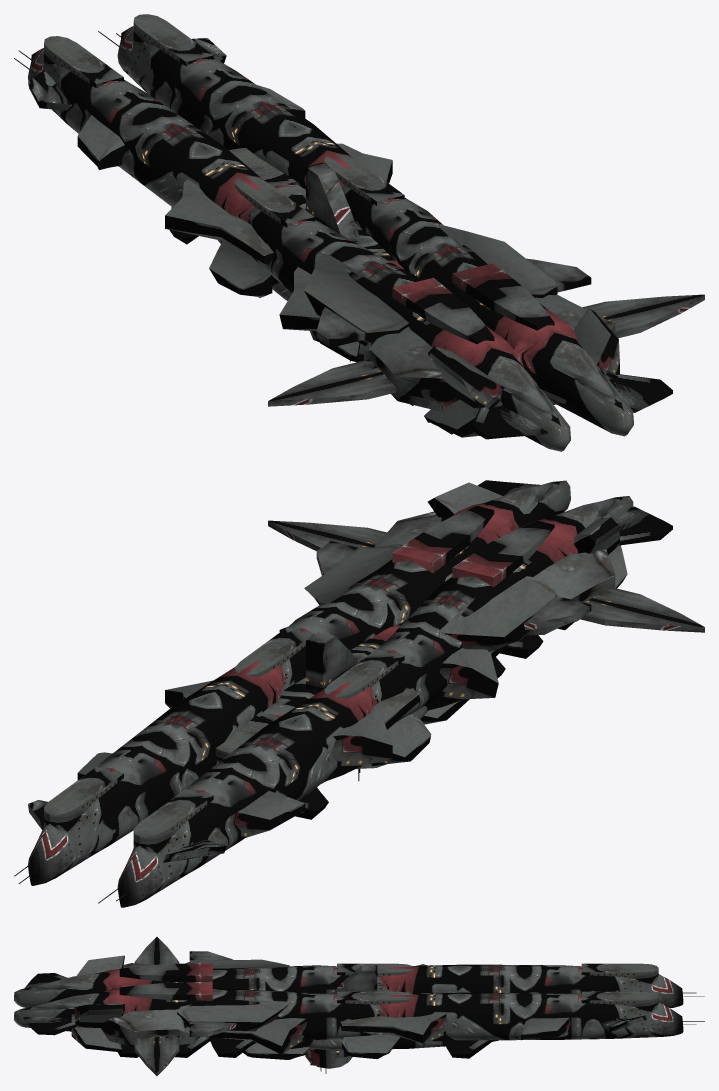
File: TypeXVI.fbx
The picture shows the model from 3 angles, top to bottom: view 1: azimuth 30°, elevation 25°; view 2: azimuth 150°, elevation 25°; view 3: azimuth 270°, elevation 25°; orthographic projection. The views are drawn at different scales.
Visible parts, largest first — view 1: 00_Core, 09_MidLeft, 01_ProngLeft, 16_TailRight, 15_TailLeft, 02_ProngRight, 13_RearLeft, 05_FinLeft, 07_HullLeft, 10_MidRight, 03_FrontLeft, 14_RearRight (+5 smaller); view 2: 01_ProngLeft, 00_Core, 02_ProngRight, 09_MidLeft, 13_RearLeft, 07_HullLeft, 05_FinLeft, 03_FrontLeft, 10_MidRight, 15_TailLeft, 14_RearRight, 16_TailRight (+4 smaller); view 3: 10_MidRight, 02_ProngRight, 00_Core, 14_RearRight, 01_ProngLeft, 08_HullRight, 06_FinRight, 16_TailRight, 04_FrontRight, 15_TailLeft, 13_RearLeft, 09_MidLeft (+4 smaller).
Part boxes in pixels (<box>): 00_Core: <box>186,96,555,404</box>; 09_MidLeft: <box>279,230,413,405</box>; 01_ProngLeft: <box>14,36,198,198</box>; 16_TailRight: <box>514,308,672,436</box>; 15_TailLeft: <box>424,340,570,451</box>; 02_ProngRight: <box>98,14,305,148</box>; 13_RearLeft: <box>364,278,505,434</box>; 05_FinLeft: <box>165,159,284,297</box>; 07_HullLeft: <box>174,144,350,300</box>; 10_MidRight: <box>386,208,591,298</box>; 03_FrontLeft: <box>98,93,264,244</box>; 14_RearRight: <box>452,263,615,336</box>; 01_ProngLeft: <box>98,725,320,907</box>; 00_Core: <box>155,523,510,804</box>; 02_ProngRight: <box>14,703,223,885</box>; 09_MidLeft: <box>386,576,591,724</box>; 13_RearLeft: <box>452,520,615,635</box>; 07_HullLeft: <box>289,639,437,784</box>; 05_FinLeft: <box>314,688,436,786</box>; 03_FrontLeft: <box>196,689,363,819</box>; 10_MidRight: <box>279,541,402,631</box>; 15_TailLeft: <box>522,496,672,588</box>; 14_RearRight: <box>374,506,505,573</box>; 16_TailRight: <box>427,480,570,531</box>; 10_MidRight: <box>175,990,328,1059</box>; 02_ProngRight: <box>468,991,704,1040</box>; 00_Core: <box>122,965,559,1073</box>; 14_RearRight: <box>101,981,223,1057</box>; 01_ProngLeft: <box>470,963,704,1007</box>; 08_HullRight: <box>305,991,465,1050</box>; 06_FinRight: <box>320,1008,467,1059</box>; 16_TailRight: <box>14,989,124,1052</box>; 04_FrontRight: <box>396,992,559,1058</box>; 15_TailLeft: <box>14,955,124,1007</box>; 13_RearLeft: <box>119,963,223,983</box>; 09_MidLeft: <box>185,951,316,978</box>.
Size of the model in its own units: 6329 by 2313 by 13537.
Materials: 1 (1 with a texture image).
